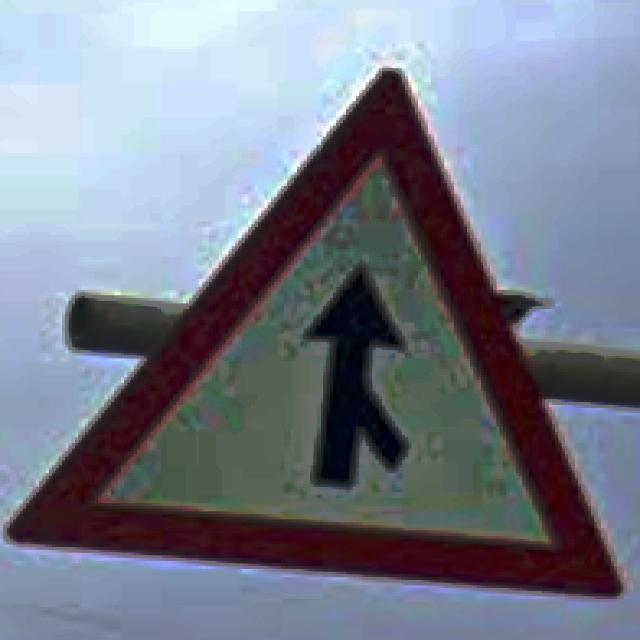rightmerge: (7, 71, 624, 599)
